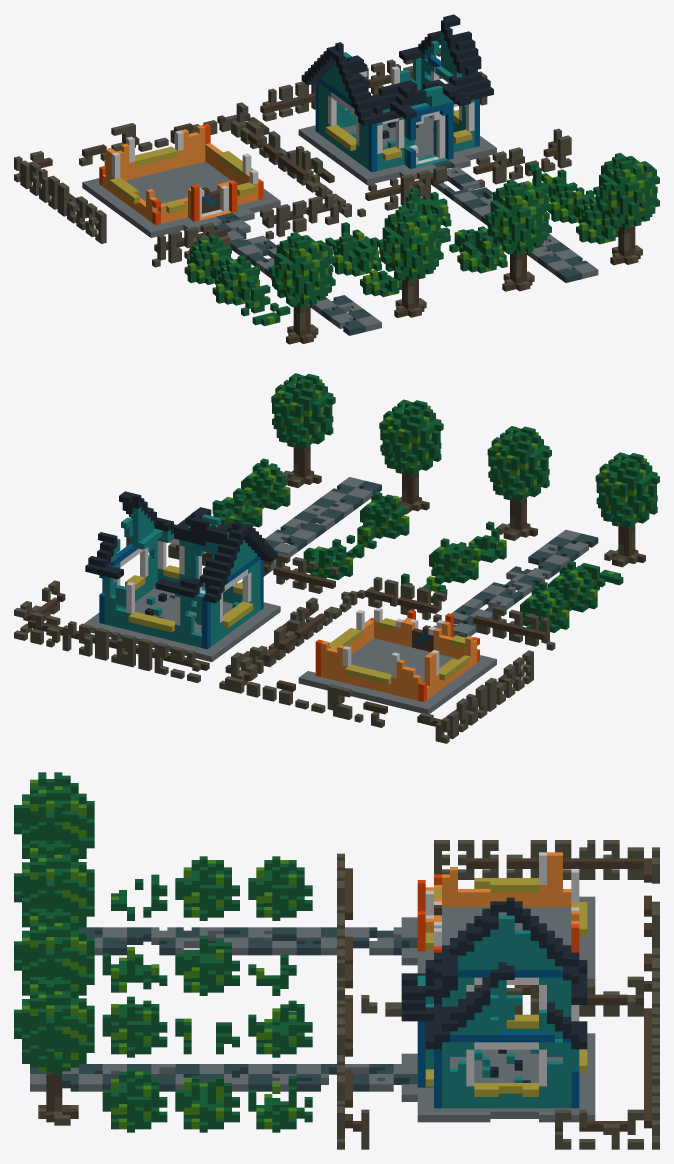
File: building_small_1_destroyed.obj
3 views of the same model, one above another, from view 1: azimuth 30°, elevation 25°; view 2: azimuth 150°, elevation 25°; view 3: azimuth 270°, elevation 25° (orthographic). The views are drawn at different scales.
Bounding box in the file's own units: 8 × 2 × 8.
1 material, 1 textured.
